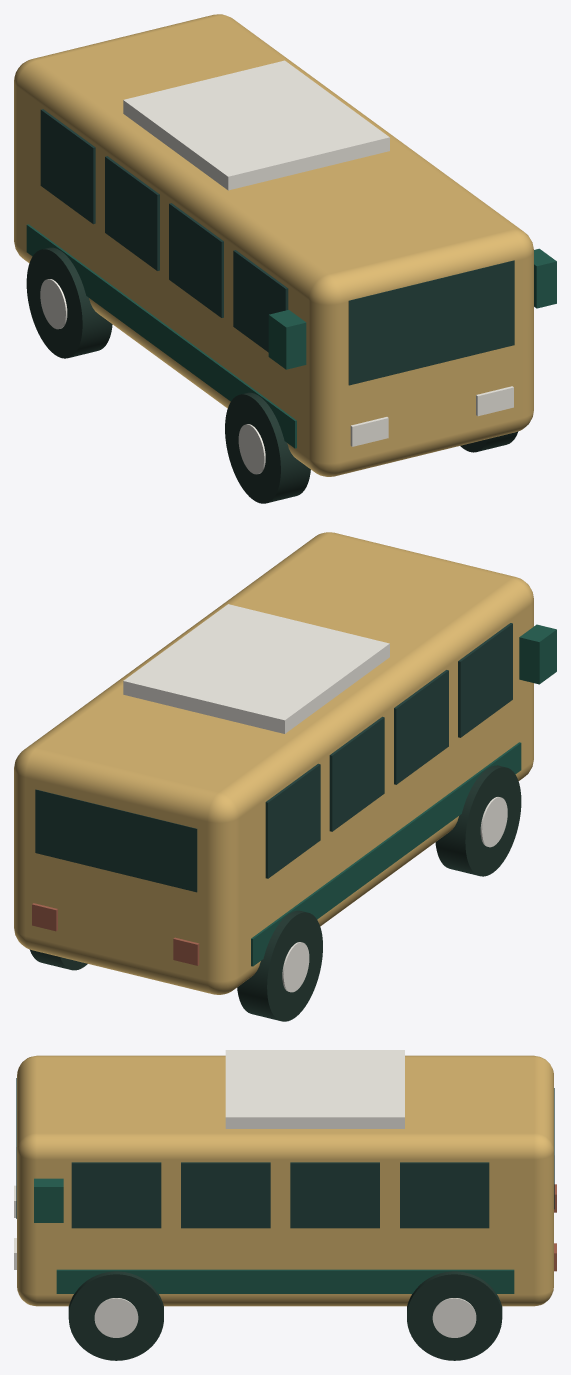
The model's file is kkl-bus.glb.
The picture shows the model from 3 angles, top to bottom: view 1: azimuth 30°, elevation 25°; view 2: azimuth 150°, elevation 25°; view 3: azimuth 270°, elevation 25°; orthographic projection. The views are drawn at different scales.
Parts seen in each view (by area): view 1: coach_body, roof_vent, passenger_window (×4), windshield, tyre (×2), lower_livery, mirror (×2), hub (×2), headlamp (×2); view 2: coach_body, roof_vent, passenger_window (×4), rear_window, tyre (×2), lower_livery, hub (×2), mirror, tail_lamp (×2); view 3: coach_body, passenger_window (×4), roof_vent, tyre (×2), lower_livery, hub (×2), mirror.
Boxes of the visible parts, bbox=[...] form: coach_body: bbox=[14, 14, 533, 476]; roof_vent: bbox=[123, 60, 389, 190]; passenger_window (×4): bbox=[40, 109, 288, 352]; windshield: bbox=[348, 260, 514, 385]; tyre (×2): bbox=[26, 247, 310, 503]; lower_livery: bbox=[26, 224, 296, 448]; mirror (×2): bbox=[268, 248, 556, 369]; hub (×2): bbox=[40, 279, 265, 474]; headlamp (×2): bbox=[350, 386, 513, 446]; coach_body: bbox=[14, 532, 533, 994]; roof_vent: bbox=[123, 604, 389, 733]; passenger_window (×4): bbox=[265, 623, 512, 878]; rear_window: bbox=[35, 789, 197, 892]; tyre (×2): bbox=[237, 765, 521, 1021]; lower_livery: bbox=[251, 742, 521, 966]; hub (×2): bbox=[282, 797, 507, 992]; mirror: bbox=[519, 624, 556, 684]; tail_lamp (×2): bbox=[32, 903, 199, 965]; coach_body: bbox=[17, 1055, 553, 1306]; passenger_window (×4): bbox=[71, 1162, 489, 1228]; roof_vent: bbox=[225, 1050, 404, 1128]; tyre (×2): bbox=[68, 1271, 502, 1360]; lower_livery: bbox=[56, 1269, 514, 1293]; hub (×2): bbox=[94, 1298, 476, 1337]; mirror: bbox=[34, 1178, 63, 1222].
Size of the model in its own units: 1.34 by 1.26 by 2.73.
